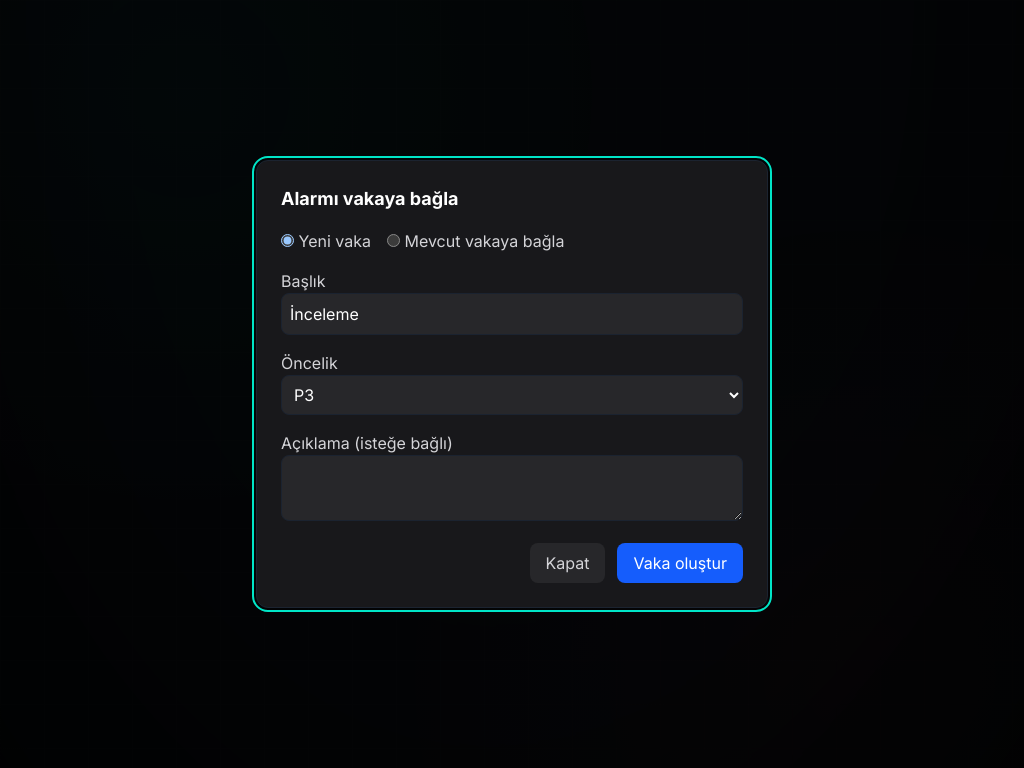
Scenario: Vaka seçimi araması › 500 vaka sınırında açıklama gösterir
Click the radio button labelled "Mevcut vakaya bağla". click: (394, 240)
box: [387,234,400,247]
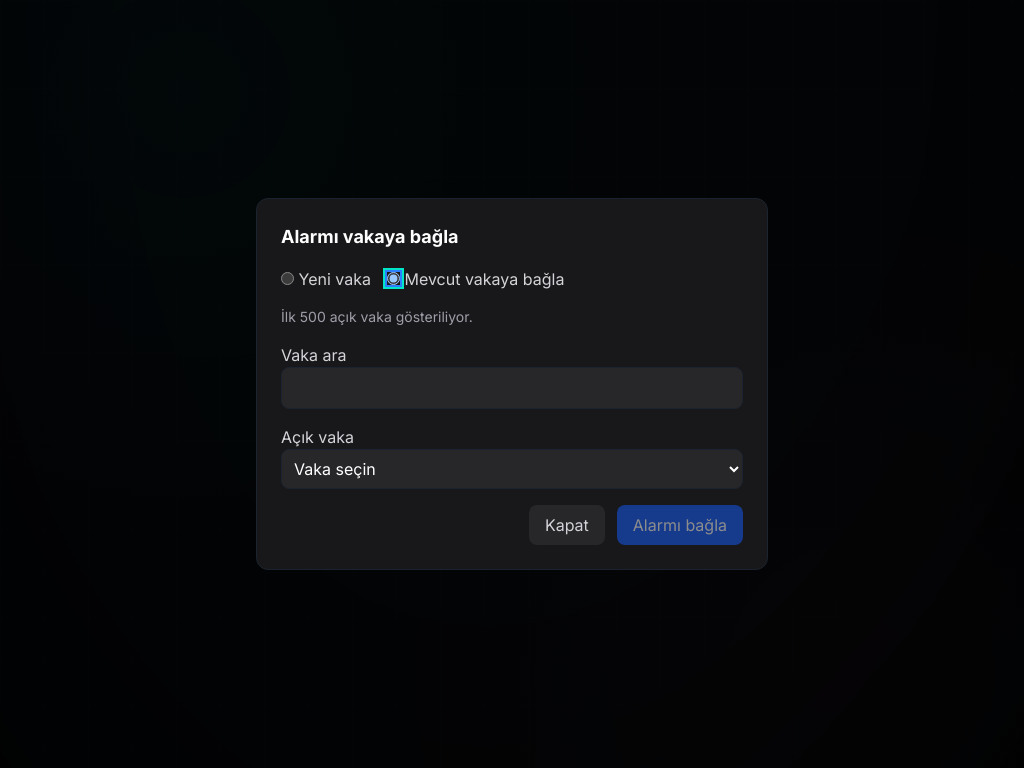
Expected: the text "İlk 500 açık vaka gösteriliyor." is shown, [281,308,473,325]
